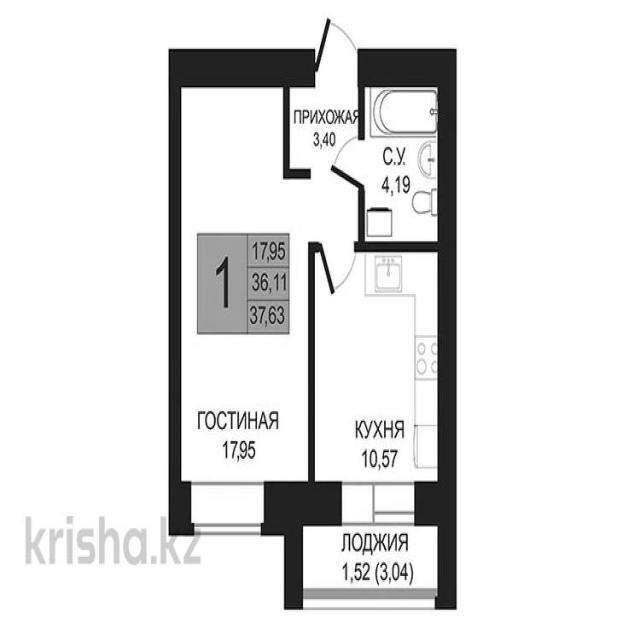balcony: (283, 513, 446, 594)
bathroom: (364, 71, 440, 240)
hallway: (288, 56, 361, 240)
kitchen: (312, 243, 448, 488)
living_room: (180, 169, 316, 489)
